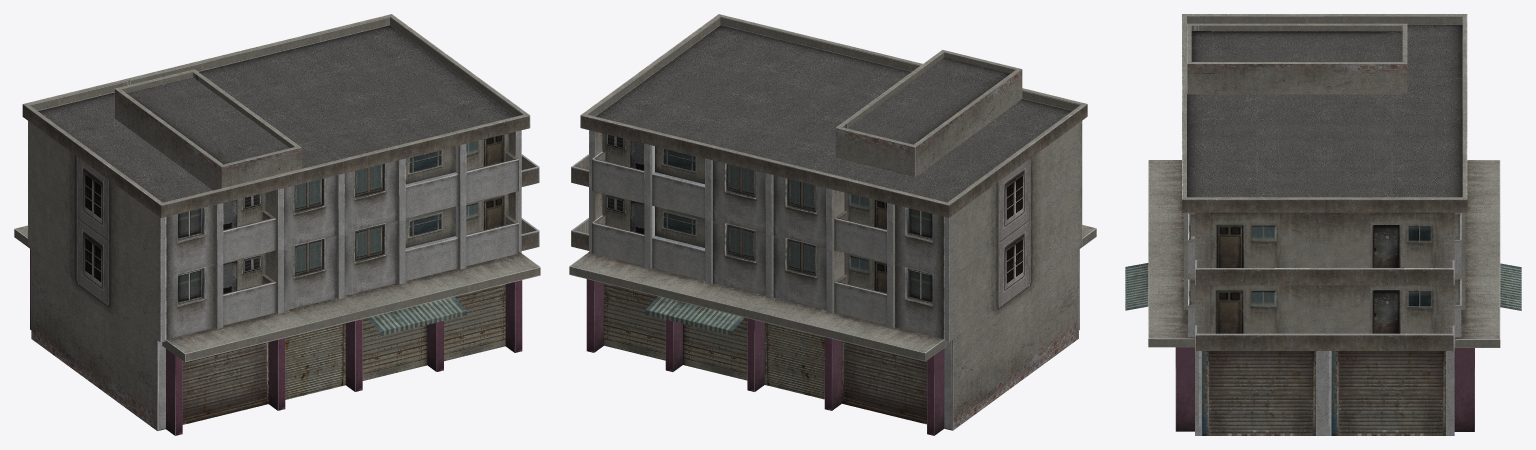
File: buildings_06_03.FBX
The picture shows the model from 3 angles, left to right: view 1: azimuth 30°, elevation 25°; view 2: azimuth 150°, elevation 25°; view 3: azimuth 270°, elevation 25°; orthographic projection. The views are drawn at different scales.
Visible parts, largest first — view 1: Box002; view 2: Box002; view 3: Box002.
Boxes of the visible parts, <box> form: Box002: <box>14,14,540,435</box>; Box002: <box>569,14,1096,435</box>; Box002: <box>1125,14,1521,435</box>.
Bounding box in the file's own units: 1900 × 1648 × 1190.
1 material, 1 textured.
